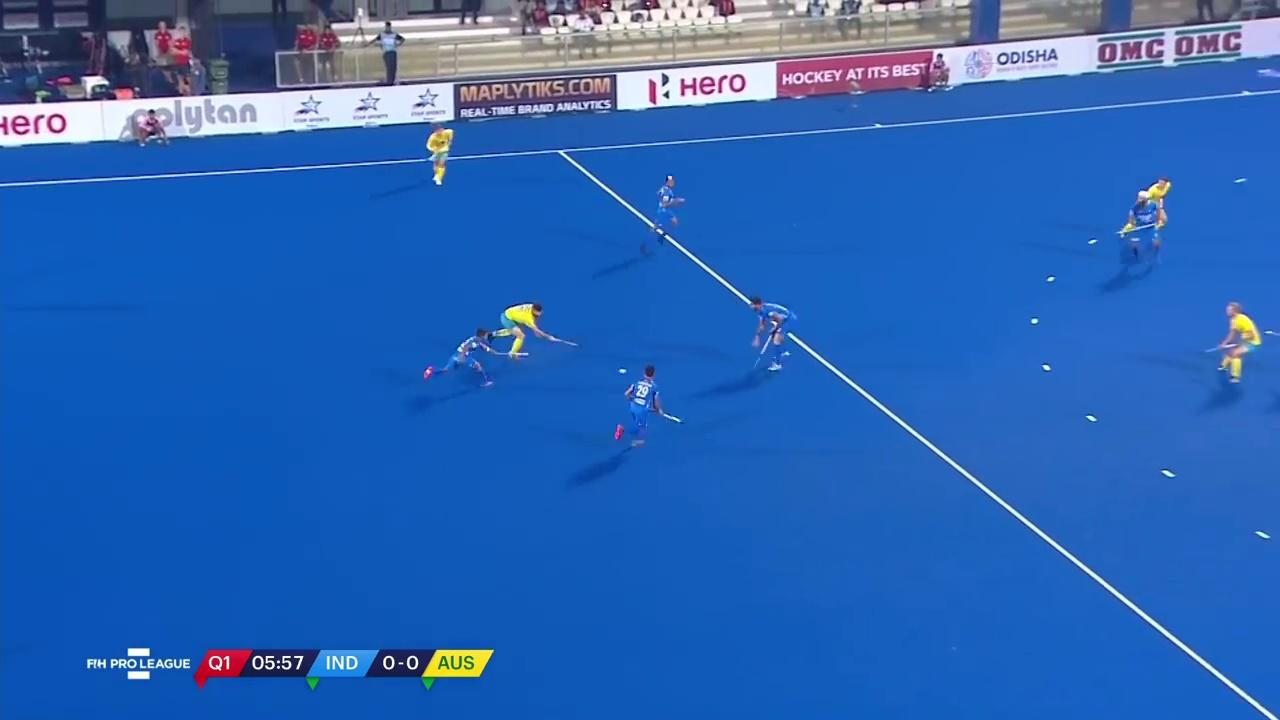ball: (615, 365, 630, 379)
